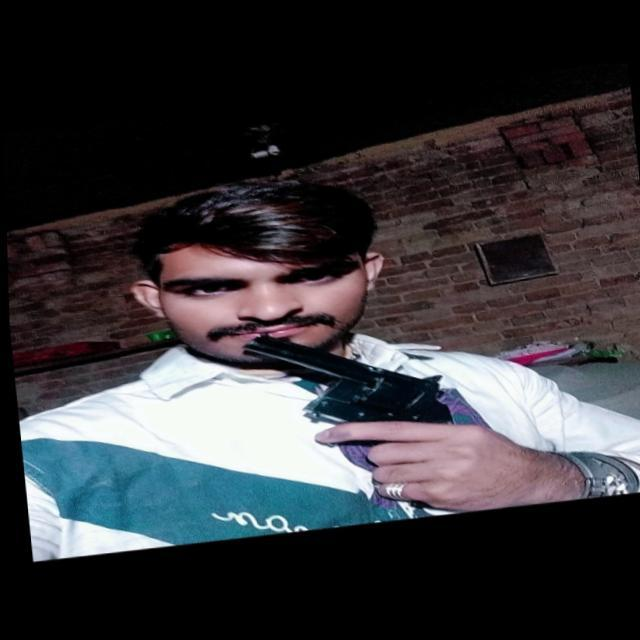weapon: (228, 311, 471, 533)
